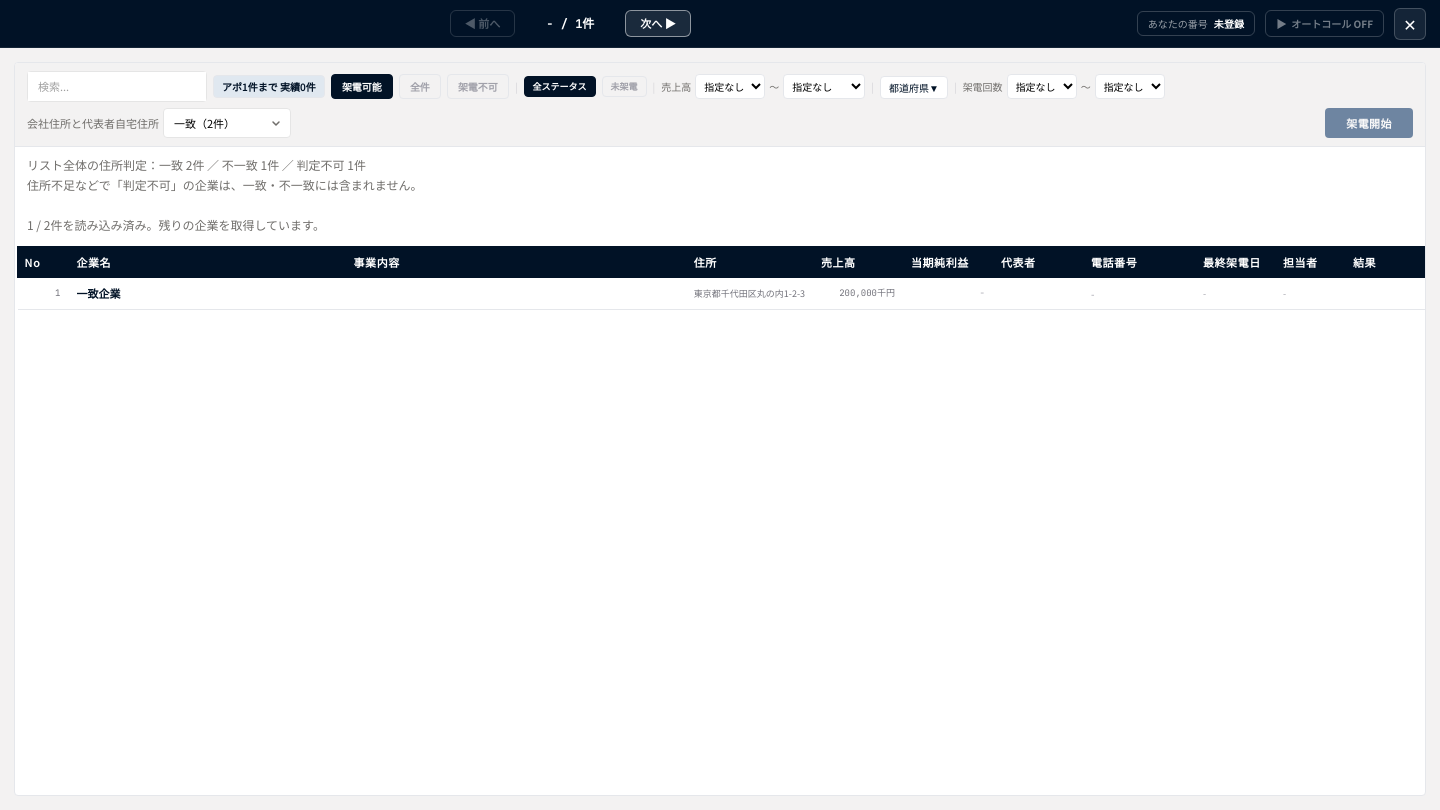
住所照合条件を詳細モーダルから架電対象まで維持 › 先行表示中は架電を開始せず、条件変更後の古い途中結果も無視する
The width and height of the screenshot is (1440, 810).
expect the button "架電開始" is disabled: met, box 1325,108 -> 1413,138
Select "不一致（1件）" in the dropdown labelled "会社住所と代表者自宅住所": coordinates (227, 123) 163,108 -> 291,138
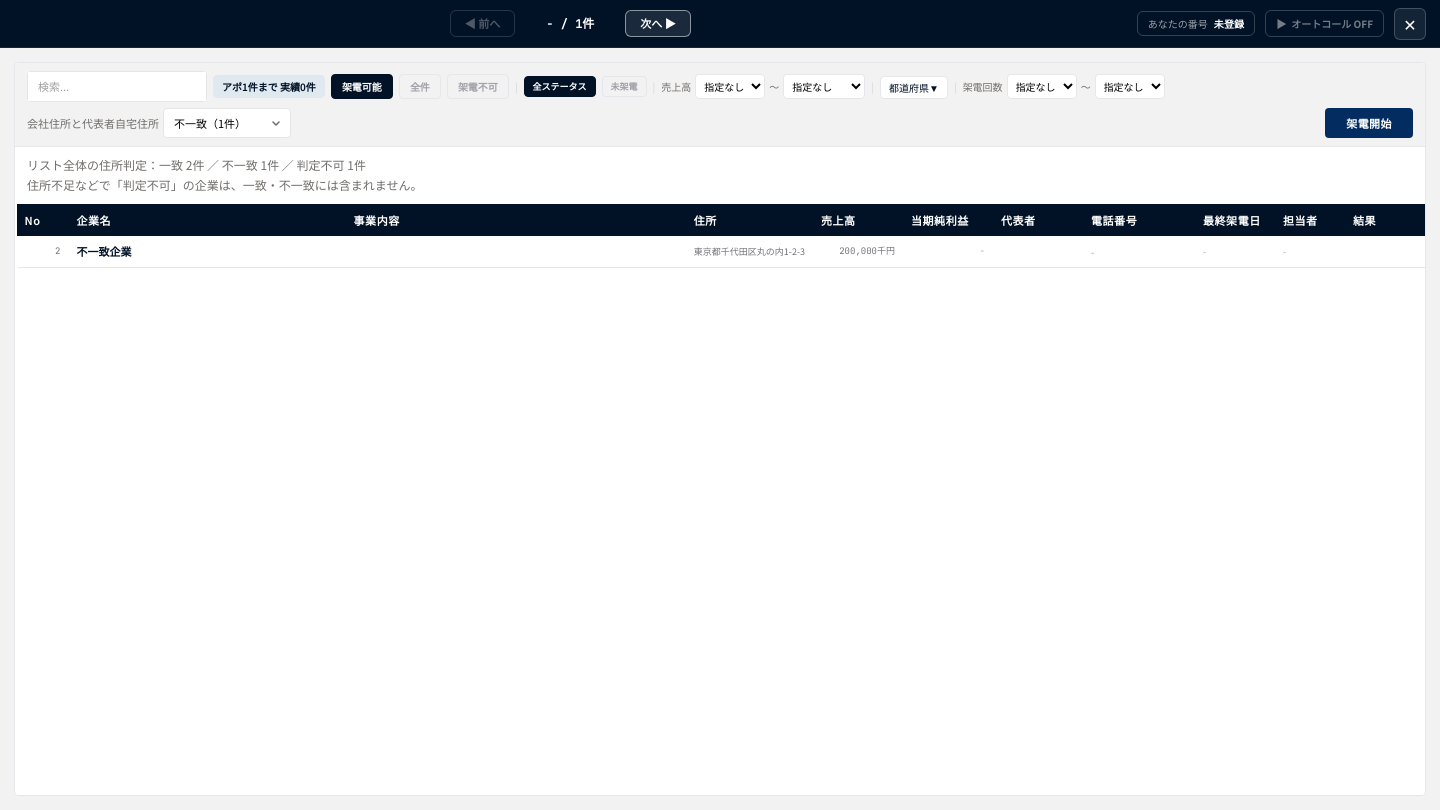
expect the button "架電開始" is enabled: met, box 1325,108 -> 1413,138
